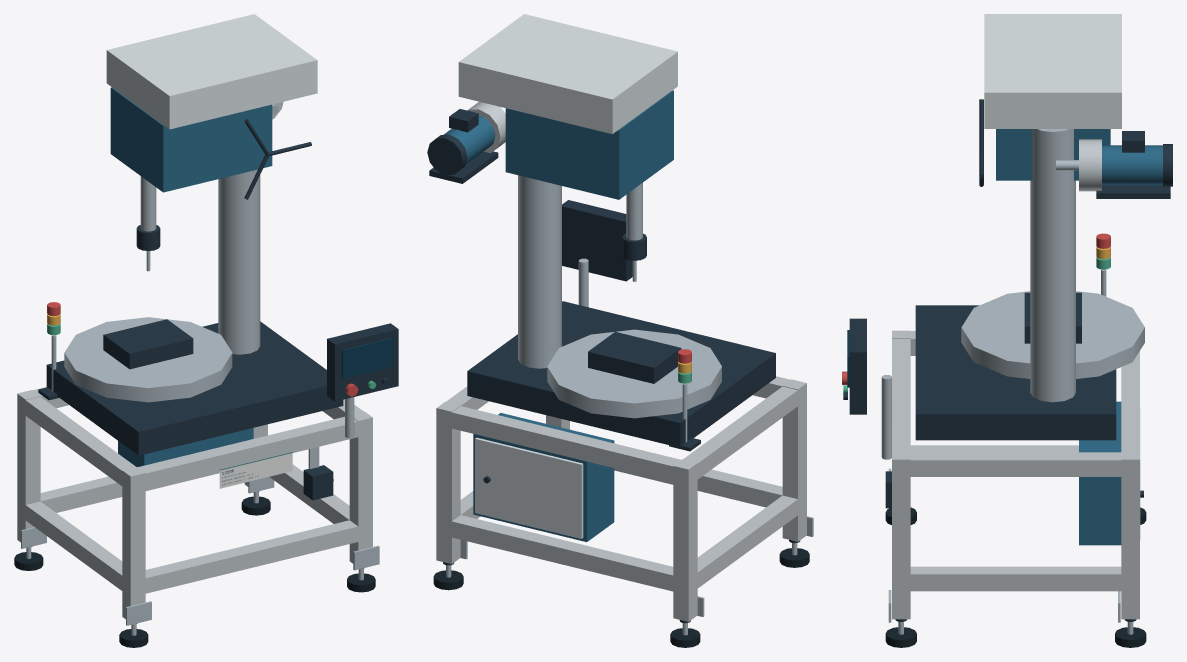
The model's file is drill-press.glb.
The picture shows the model from 3 angles, left to right: view 1: azimuth 30°, elevation 25°; view 2: azimuth 150°, elevation 25°; view 3: azimuth 270°, elevation 25°; orthographic projection. The views are drawn at different scales.
Visible parts, largest first — view 1: BeltGuard_34, DrillBase_31, DrillHeadCasting_33, DrillWorkTable_42, DrillColumn_32, Extrusion_22, Extrusion_23, Extrusion_8, WorkVice_43, Extrusion_25, PanelBack_51, Extrusion_24 (+9 smaller); view 2: BeltGuard_34, DrillBase_31, DrillHeadCasting_33, DrillWorkTable_42, BackAccessDoor_29, DrillColumn_32, Extrusion_21, Extrusion_20, PanelBack_51, Extrusion_3, Extrusion_13, ElectricalCabinet_28 (+12 smaller); view 3: DrillBase_31, BeltGuard_34, DrillColumn_32, DrillWorkTable_42, Extrusion_26, Extrusion_27, ElectricalCabinet_28, Extrusion_13, Extrusion_18, DrillHeadCasting_33, Motor_36, Extrusion_23 (+10 smaller).
Boxes of the visible parts, <box> form: BeltGuard_34: <box>106,14,317,129</box>; DrillBase_31: <box>46,321,343,455</box>; DrillHeadCasting_33: <box>110,87,272,192</box>; DrillWorkTable_42: <box>64,317,232,402</box>; DrillColumn_32: <box>218,169,260,354</box>; Extrusion_22: <box>138,520,358,595</box>; Extrusion_23: <box>138,416,358,490</box>; Extrusion_8: <box>122,467,145,618</box>; WorkVice_43: <box>103,319,193,369</box>; Extrusion_25: <box>21,397,135,487</box>; PanelBack_51: <box>327,323,398,401</box>; Extrusion_24: <box>21,501,126,593</box>; BeltGuard_34: <box>458,14,677,134</box>; DrillBase_31: <box>467,301,775,447</box>; DrillHeadCasting_33: <box>505,90,673,199</box>; DrillWorkTable_42: <box>547,329,721,418</box>; BackAccessDoor_29: <box>475,437,583,538</box>; DrillColumn_32: <box>518,175,561,368</box>; Extrusion_21: <box>444,406,680,483</box>; Extrusion_20: <box>444,515,680,591</box>; PanelBack_51: <box>562,200,632,281</box>; Extrusion_3: <box>673,459,697,621</box>; Extrusion_13: <box>436,401,460,563</box>; ElectricalCabinet_28: <box>473,413,614,541</box>; DrillBase_31: <box>915,305,1116,440</box>; BeltGuard_34: <box>984,14,1121,128</box>; DrillColumn_32: <box>1030,129,1075,402</box>; DrillWorkTable_42: <box>961,291,1144,378</box>; Extrusion_26: <box>901,566,1130,591</box>; Extrusion_27: <box>901,452,1130,476</box>; ElectricalCabinet_28: <box>1079,401,1121,545</box>; Extrusion_13: <box>1121,451,1139,619</box>; Extrusion_18: <box>892,451,910,619</box>; DrillHeadCasting_33: <box>996,129,1110,180</box>; Motor_36: <box>1102,145,1162,185</box>; Extrusion_23: <box>892,339,910,451</box>.
Bounding box in the file's own units: 1.12 × 2.1 × 1.15.
11 materials, 1 textured.
